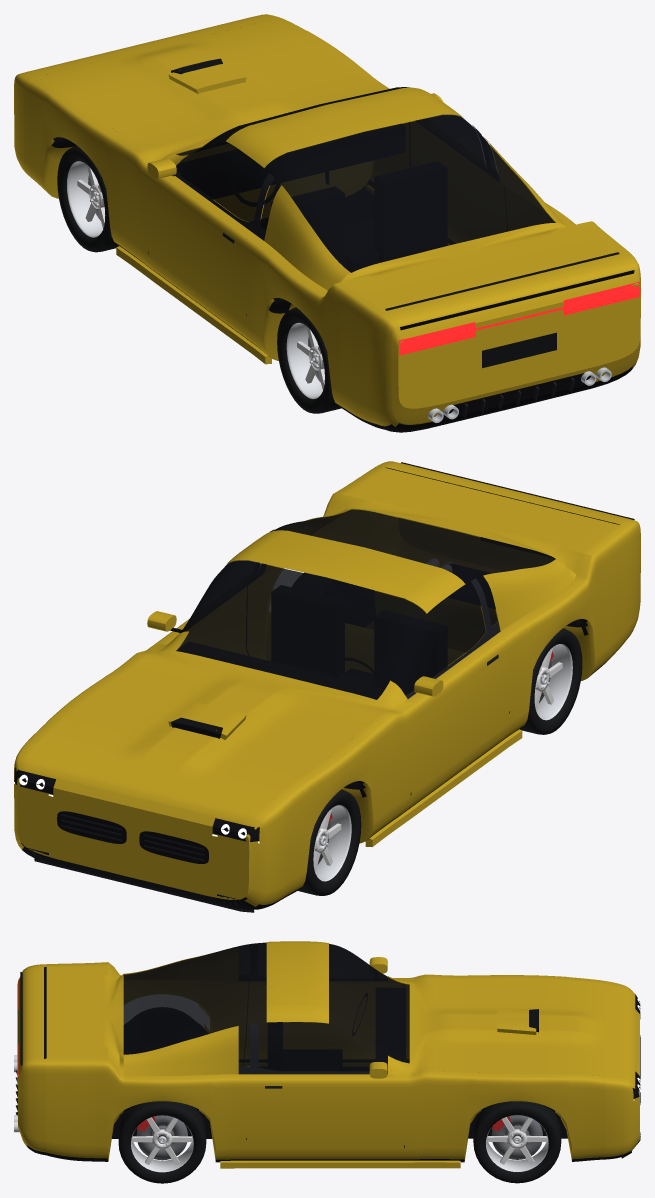
The picture shows the model from 3 angles, top to bottom: view 1: azimuth 30°, elevation 25°; view 2: azimuth 150°, elevation 25°; view 3: azimuth 270°, elevation 25°; orthographic projection. The views are drawn at different scales.
Parts seen in each view (by area): view 1: body, glass, hood, bumper_front, bumper_rear, wheel_RL, wheel_FL, lights_rear, interior_low, skirts, spoiler, exhaust; view 2: body, glass, bumper_front, hood, wheel_FL, wheel_RL, bumper_rear, skirts, interior_low, spoiler; view 3: body, glass, hood, bumper_front, wheel_RR, wheel_FR, bumper_rear, skirts, brake_RR, brake_FR, spoiler, interior_low.
Part boxes in pixels (<box>): body: <box>23,18,628,429</box>; glass: <box>176,87,554,272</box>; hood: <box>37,20,379,160</box>; bumper_front: <box>14,14,640,408</box>; bumper_rear: <box>372,251,640,432</box>; wheel_RL: <box>277,307,341,413</box>; wheel_FL: <box>57,145,118,252</box>; lights_rear: <box>398,281,640,355</box>; interior_low: <box>176,123,446,271</box>; skirts: <box>116,188,373,364</box>; spoiler: <box>385,252,634,330</box>; exhaust: <box>428,367,611,422</box>; body: <box>26,466,631,902</box>; glass: <box>176,509,555,699</box>; bumper_front: <box>14,517,555,912</box>; hood: <box>37,650,393,801</box>; wheel_FL: <box>298,789,361,895</box>; wheel_RL: <box>520,628,582,734</box>; bumper_rear: <box>372,461,640,638</box>; skirts: <box>365,729,522,846</box>; interior_low: <box>176,586,447,697</box>; spoiler: <box>385,462,634,524</box>; body: <box>46,941,605,1162</box>; glass: <box>123,942,409,1071</box>; hood: <box>409,978,605,1076</box>; bumper_front: <box>606,981,640,1159</box>; wheel_RR: <box>118,1101,206,1183</box>; wheel_FR: <box>473,1101,561,1183</box>; bumper_rear: <box>16,964,45,1155</box>; skirts: <box>220,1063,460,1168</box>; brake_RR: <box>136,1115,187,1160</box>; brake_FR: <box>491,1115,542,1159</box>; spoiler: <box>20,966,46,1065</box>; interior_low: <box>267,988,405,1071</box>.
Size of what is drawn, in the model's own units: 2.05 by 1.39 by 4.86.
